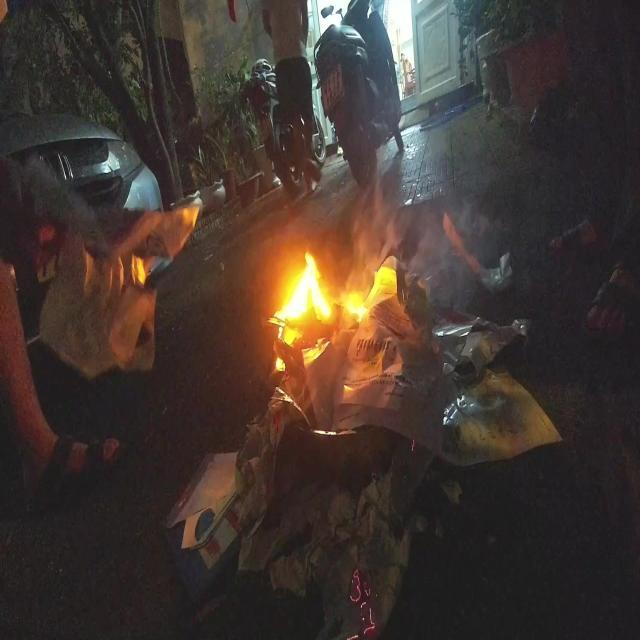Fire: (274, 248, 404, 372)
Smoke: (342, 188, 490, 304)
